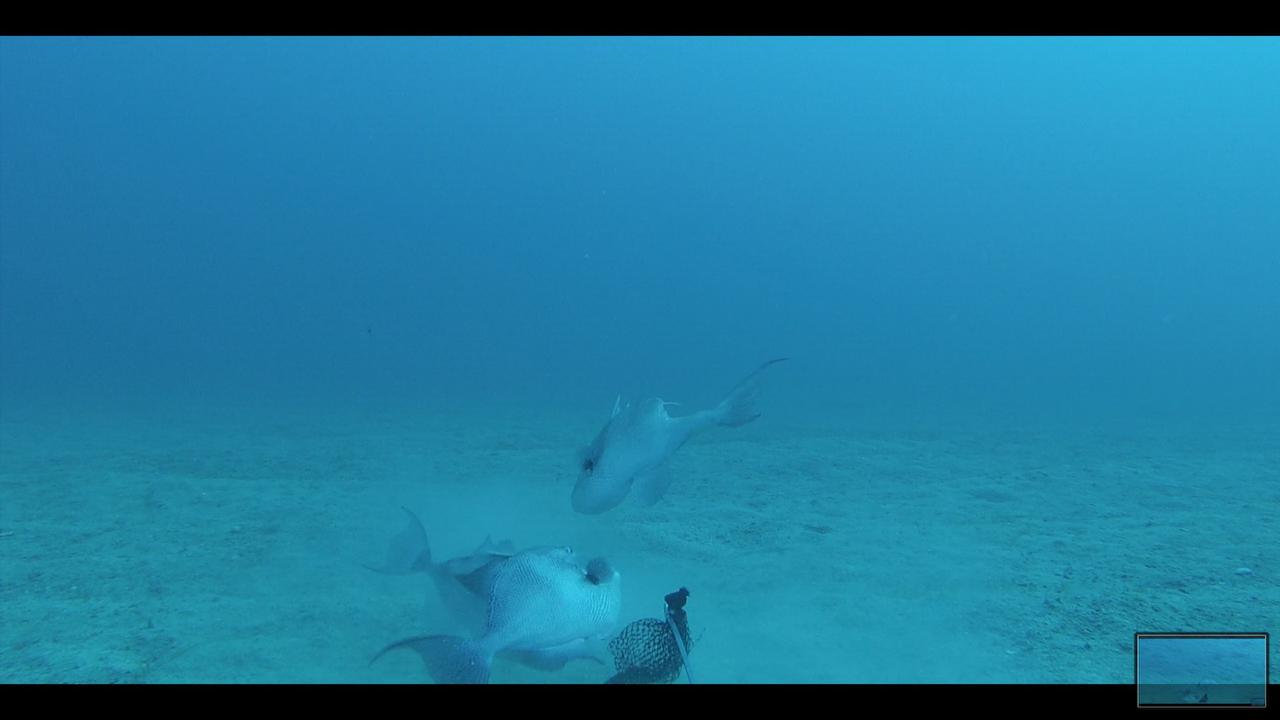balistes: (564, 334, 793, 517), (357, 540, 622, 680), (355, 502, 555, 639)
